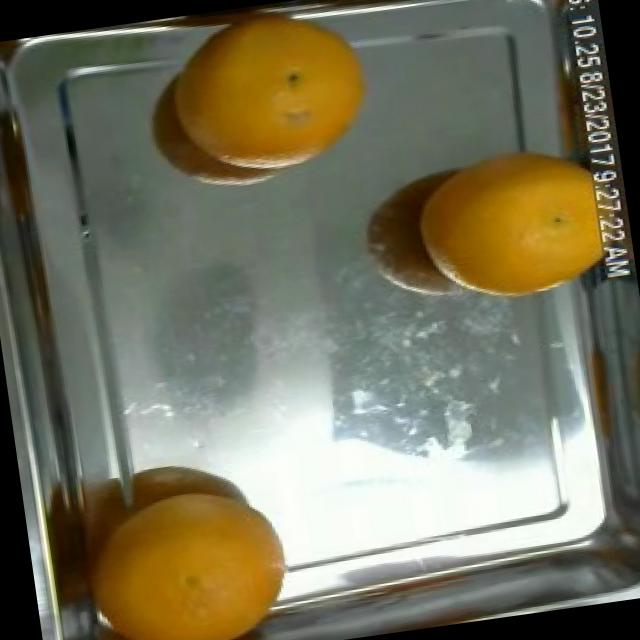Fruit: (394, 124, 631, 318)
